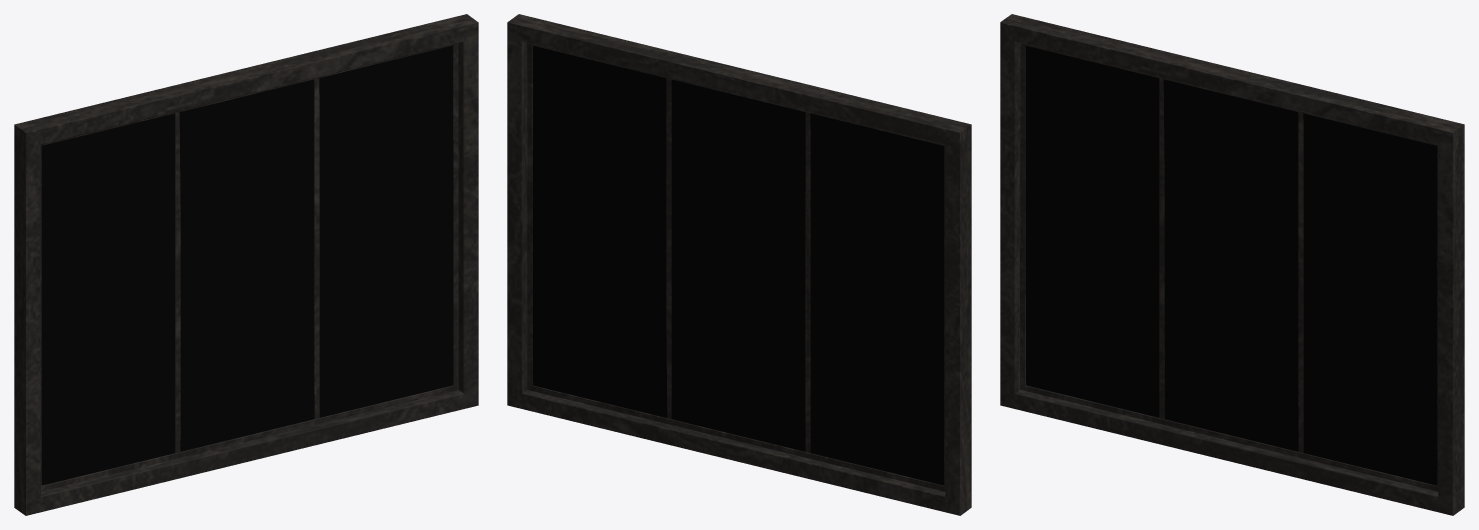
Rendered from WindowFactory65507.spawn_asset3.glb.
The picture shows the model from 3 angles, left to right: view 1: azimuth 30°, elevation 25°; view 2: azimuth 150°, elevation 25°; view 3: azimuth 330°, elevation 25°; orthographic projection.
Parts seen in each view (by area): view 1: WindowFactory(65507).spawn_asset(3).001; view 2: WindowFactory(65507).spawn_asset(3).001; view 3: WindowFactory(65507).spawn_asset(3).001.
Boxes of the visible parts, x1,y1,x2,y2 form: WindowFactory(65507).spawn_asset(3).001: (14, 14, 478, 515); WindowFactory(65507).spawn_asset(3).001: (507, 14, 971, 515); WindowFactory(65507).spawn_asset(3).001: (1000, 14, 1464, 515).
Size of the model in its own units: 1.77 by 1.43 by 0.08.
1 material, 1 textured.
